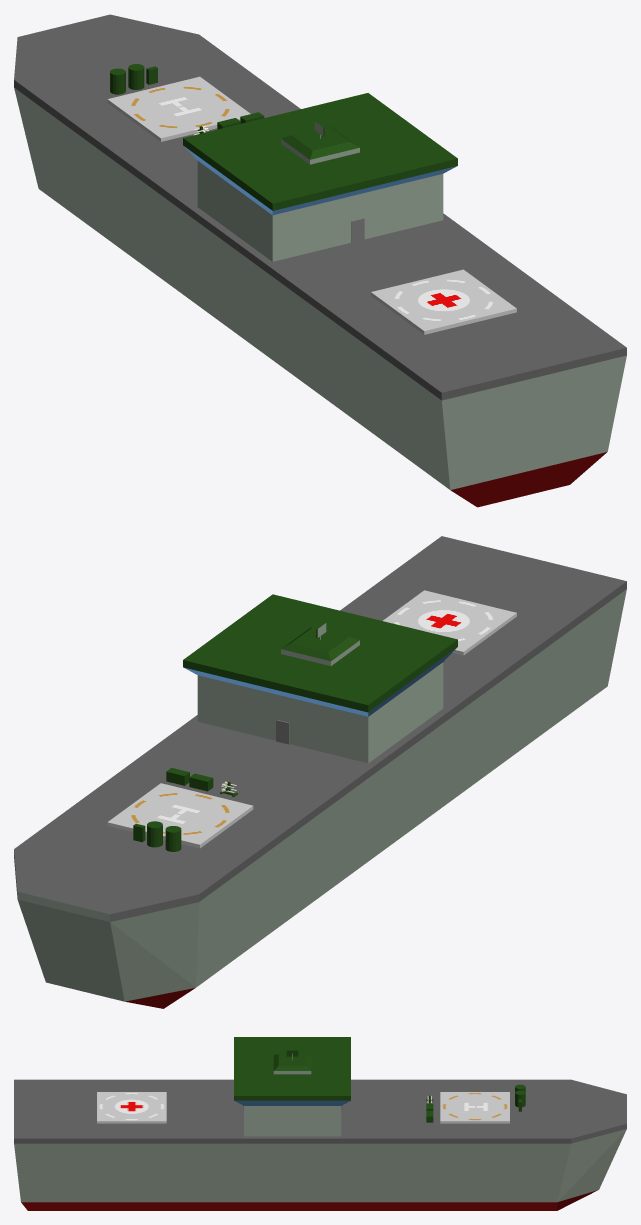
File: carrier_1.glb
The picture shows the model from 3 angles, top to bottom: view 1: azimuth 30°, elevation 25°; view 2: azimuth 150°, elevation 25°; view 3: azimuth 270°, elevation 25°; orthographic projection. The views are drawn at different scales.
Visible parts, largest first — view 1: base (×3), head, Cube; view 2: base (×3), head, Cube; view 3: base (×3), head, Cube.
Boxes of the visible parts, x1,y1,x2,y2 form: base (×3): (14, 14, 626, 507); head: (183, 93, 457, 261); Cube: (281, 126, 359, 164); base (×3): (14, 536, 626, 1008); head: (183, 594, 457, 763); Cube: (281, 627, 359, 665); base (×3): (14, 1079, 626, 1210); head: (234, 1037, 350, 1136); Cube: (273, 1054, 311, 1074).
Bounding box in the file's own units: 2 × 2.31 × 8.8.
11 materials, 2 textured.
